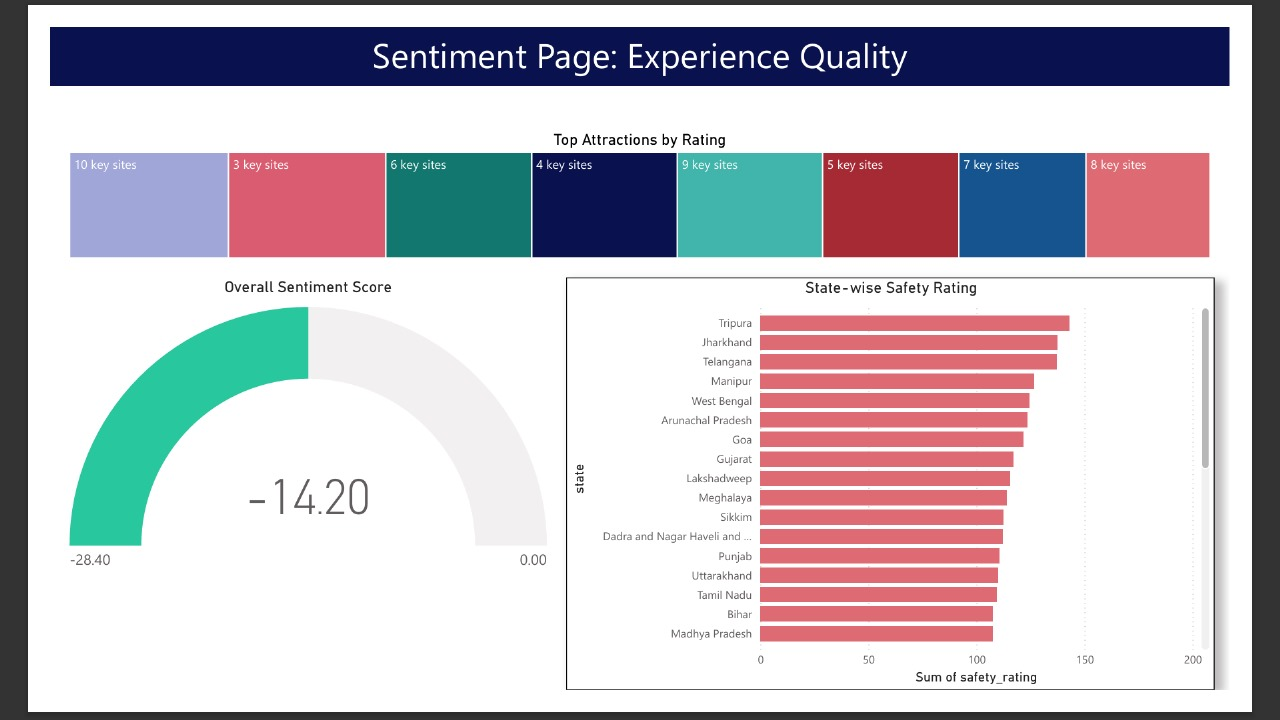

The dashboard page shown, as its layout file describes it:
{"tool":"powerbi","page":{"name":"Page 3","canvas":[1280,720],"ordinal":2},"visuals":[{"type":"textbox","box":[0,0,1280,64],"z":0},{"type":"treemap","title":"Top Attractions by Rating","fields":{"Group":["tourism_data.top_attractions"],"Values":["Sum(tourism_data.avg_attraction_rating)"]},"box":[16,112,1248,144],"z":1000},{"type":"gauge","title":"Overall Sentiment Score","fields":{"Y":["Sum(tourism_data.avg_sentiment_score)"]},"box":[16,272,528,336],"z":2000},{"type":"barChart","title":"State-wise Safety Rating","fields":{"Category":["tourism_data.state"],"Y":["Sum(tourism_data.safety_rating)"]},"box":[560,272,704,448],"z":2001}]}

Visuals, with their boxes in screenshot pixels (x1, y1, x2, y2), scaled from the page's 1280x720 canvas onto the 1280x720 screenshot:
textbox: (left=0, top=0, right=1279, bottom=64)
"Top Attractions by Rating" treemap: (left=16, top=112, right=1264, bottom=256)
"Overall Sentiment Score" gauge: (left=16, top=272, right=544, bottom=608)
"State-wise Safety Rating" barChart: (left=560, top=272, right=1264, bottom=719)
